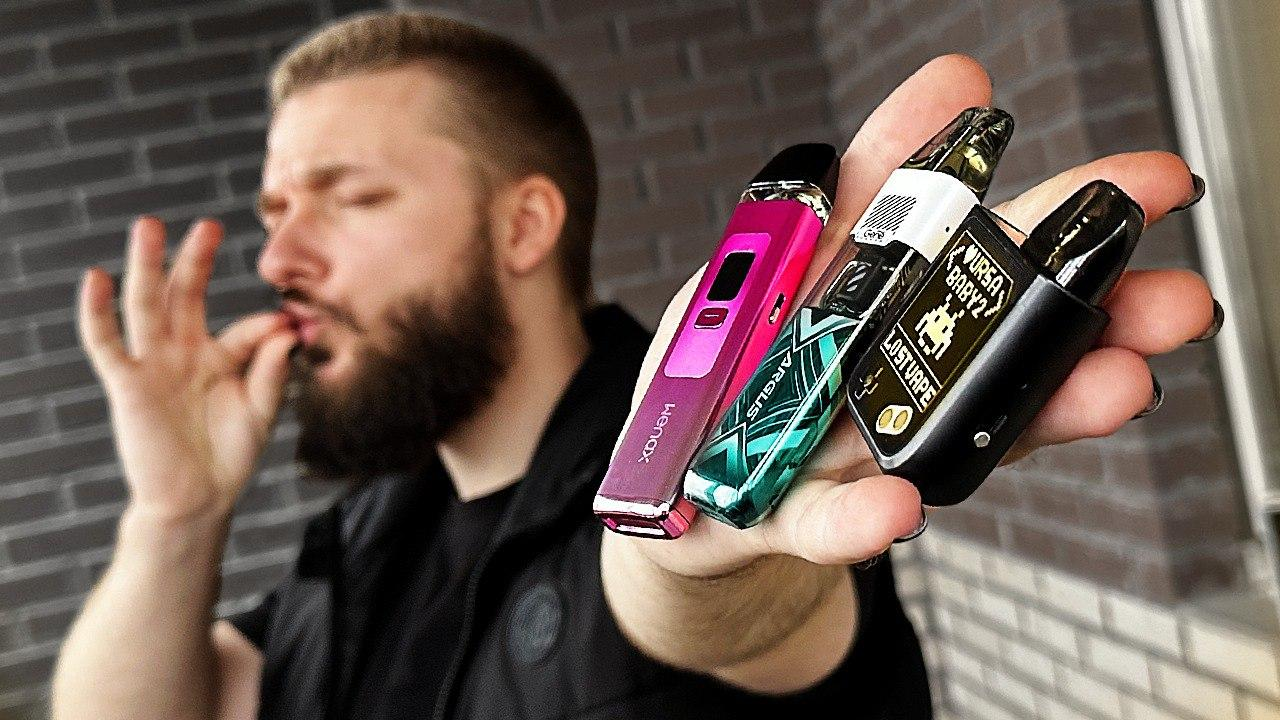Vape: (682, 106, 1013, 527), (592, 143, 840, 538), (847, 180, 1144, 505)
